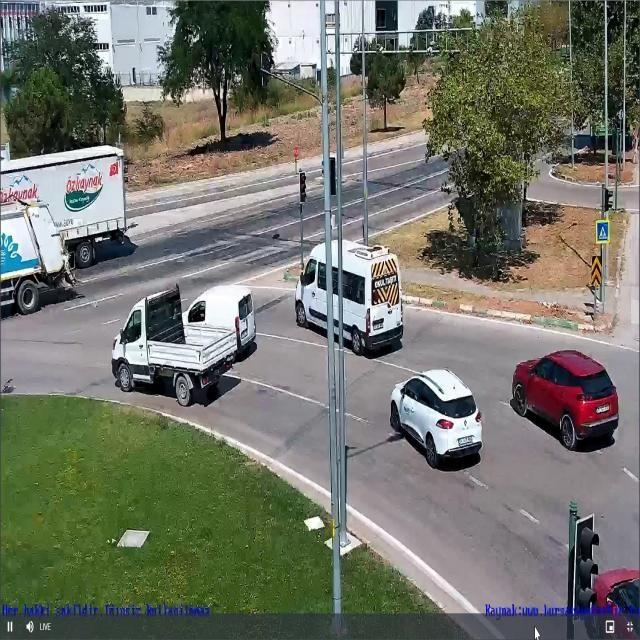Car: (506, 344, 624, 446), (386, 371, 480, 467)
Truck: (100, 289, 235, 412), (0, 144, 152, 239), (0, 195, 87, 318)
Van: (278, 241, 430, 351)
